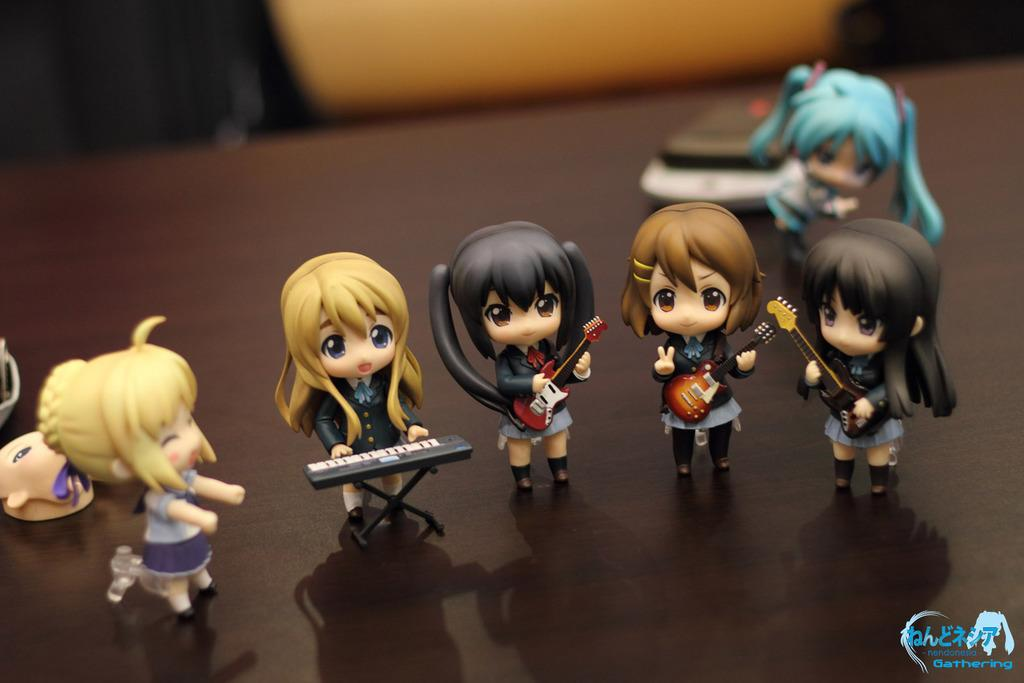Sem Máscara: (316, 299, 394, 373), (650, 258, 725, 334), (477, 281, 558, 344), (797, 131, 877, 187), (147, 392, 200, 469), (816, 292, 882, 353)
